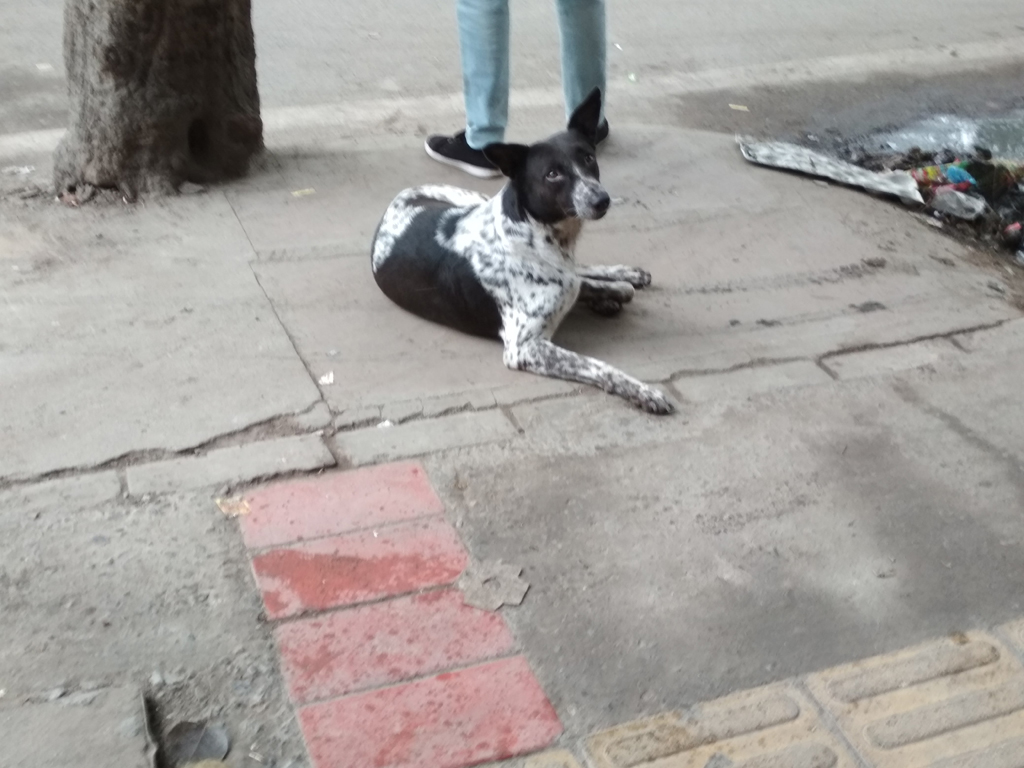dog: (370, 85, 677, 415)
